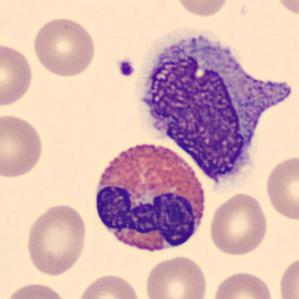Eosinophil: (87, 134, 211, 262)
Lymphocyte: (129, 22, 297, 191)
Platelets: (115, 56, 137, 79)
RBC: (23, 201, 89, 277), (207, 190, 270, 257), (31, 15, 98, 78), (0, 111, 46, 180), (142, 253, 209, 299), (264, 154, 298, 223), (0, 41, 35, 108), (210, 269, 276, 299), (74, 272, 144, 299), (6, 281, 68, 299), (276, 253, 298, 299), (178, 0, 229, 19), (272, 0, 299, 18)
